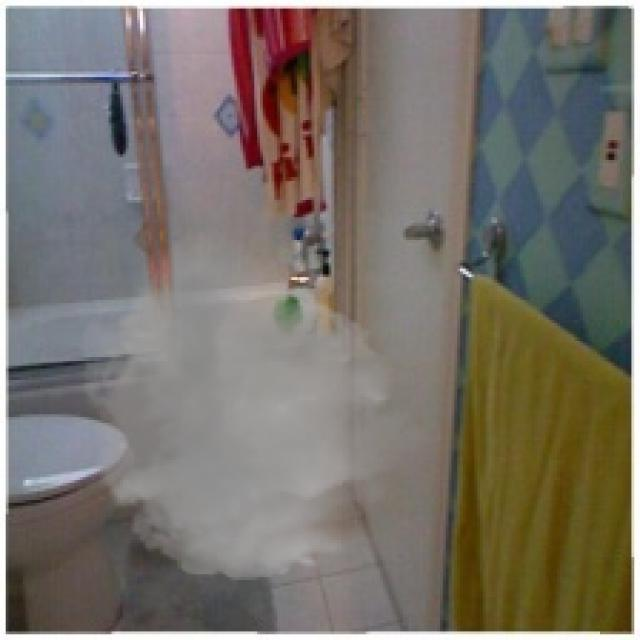Smoke: (66, 232, 437, 588)
